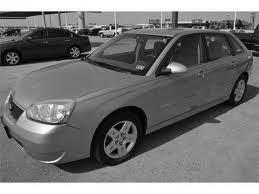car: (5, 29, 256, 167)
